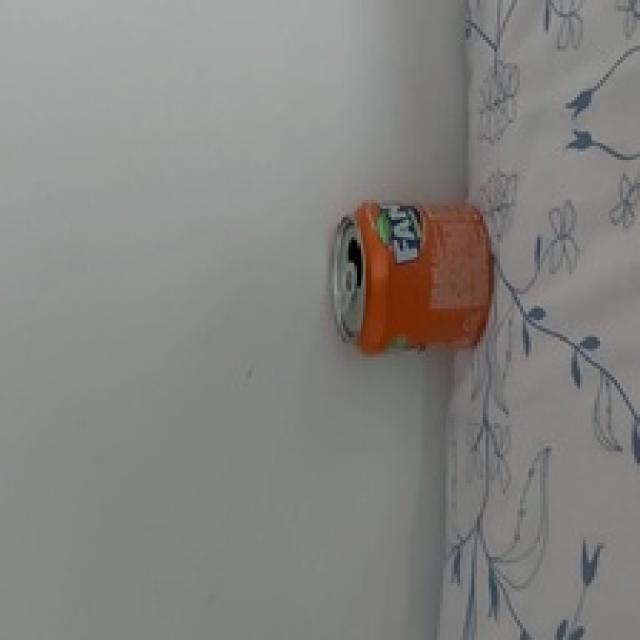recyclable: (328, 194, 491, 362)
